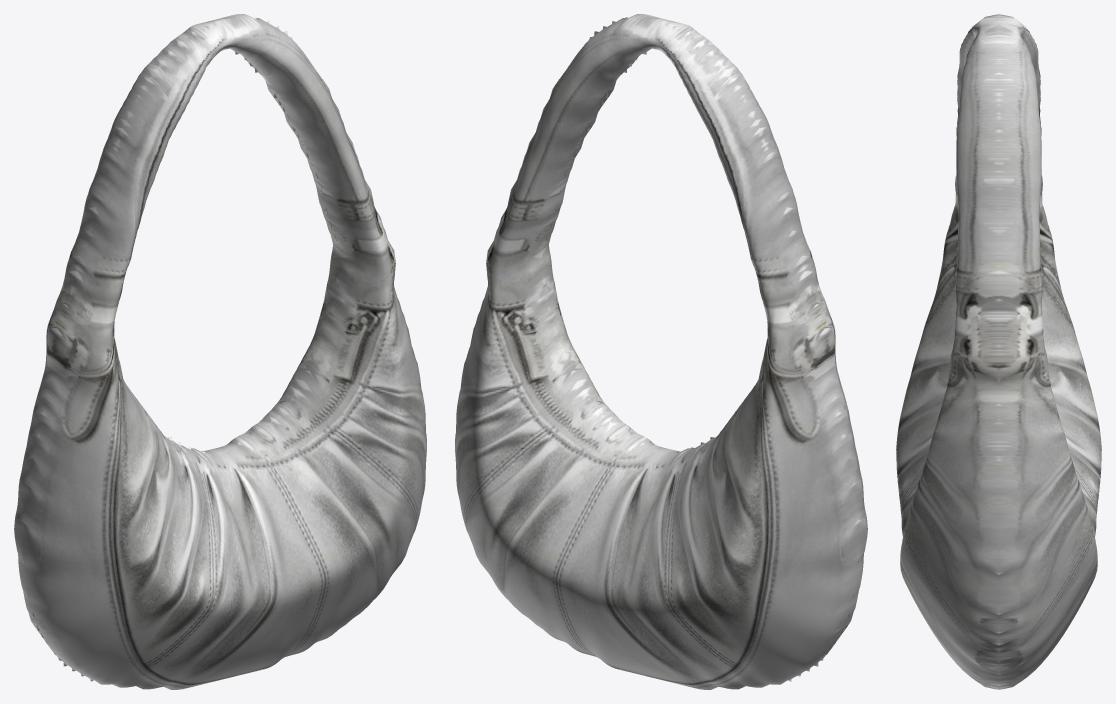
The model's file is prod-ae-silver-metallic-shoulder-bag.glb.
3 renders of one model, left to right at view 1: azimuth 30°, elevation 25°; view 2: azimuth 150°, elevation 25°; view 3: azimuth 270°, elevation 25°, orthographic. The views are drawn at different scales.
Visible parts, largest first — view 1: prod-ae-silver-metallic-shoulder-bag_standalone; view 2: prod-ae-silver-metallic-shoulder-bag_standalone; view 3: prod-ae-silver-metallic-shoulder-bag_standalone.
Part boxes in pixels (bbox=[...]): prod-ae-silver-metallic-shoulder-bag_standalone: bbox=[14, 14, 426, 689]; prod-ae-silver-metallic-shoulder-bag_standalone: bbox=[455, 14, 867, 689]; prod-ae-silver-metallic-shoulder-bag_standalone: bbox=[896, 14, 1101, 689].
Size of the model in its own units: 0.2272 by 0.3584 by 0.1051.
Materials: 1 (1 with a texture image).
